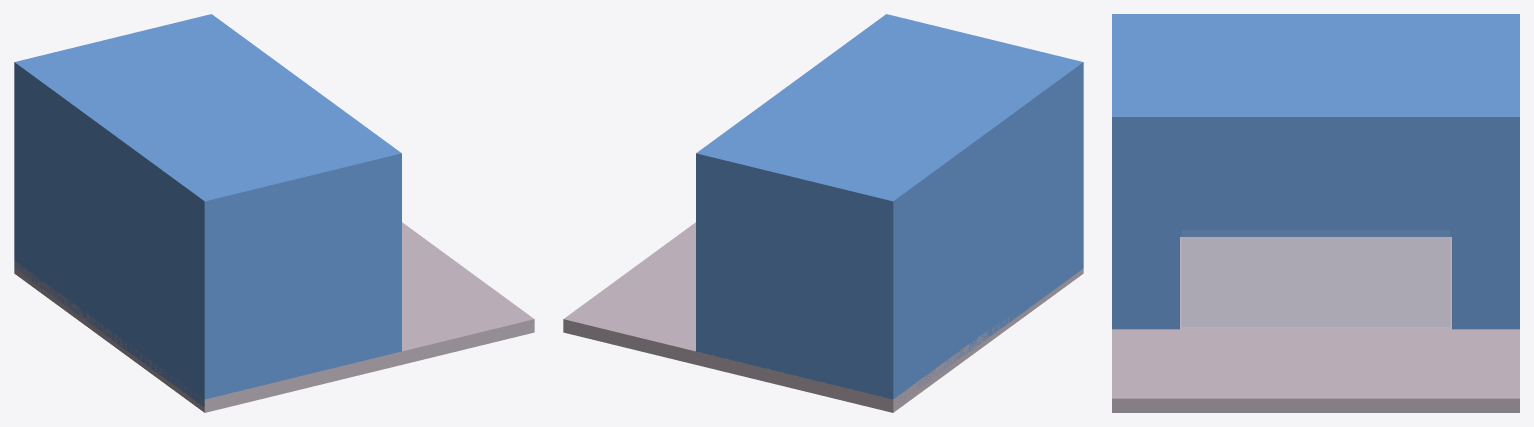
Rendered from building.glb.
3 views of the same model, side by side, from view 1: azimuth 30°, elevation 25°; view 2: azimuth 150°, elevation 25°; view 3: azimuth 270°, elevation 25° (orthographic). The views are drawn at different scales.
Visible parts, largest first — view 1: building, flat; view 2: building, flat; view 3: building, flat, glass.
Part boxes in pixels (x1,y1,x2,y2): building: (14, 14, 401, 406); flat: (14, 222, 534, 412); building: (696, 14, 1083, 399); flat: (563, 222, 1083, 412); building: (1112, 14, 1519, 329); flat: (1112, 237, 1519, 412); glass: (1182, 230, 1449, 326).
Bounding box in the file's own units: 18.09 × 11.09 × 18.09.
